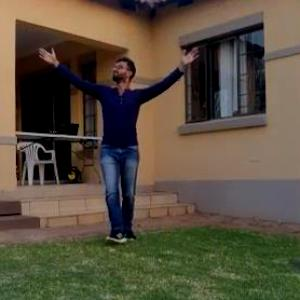takeoff: (53, 55, 204, 247)
